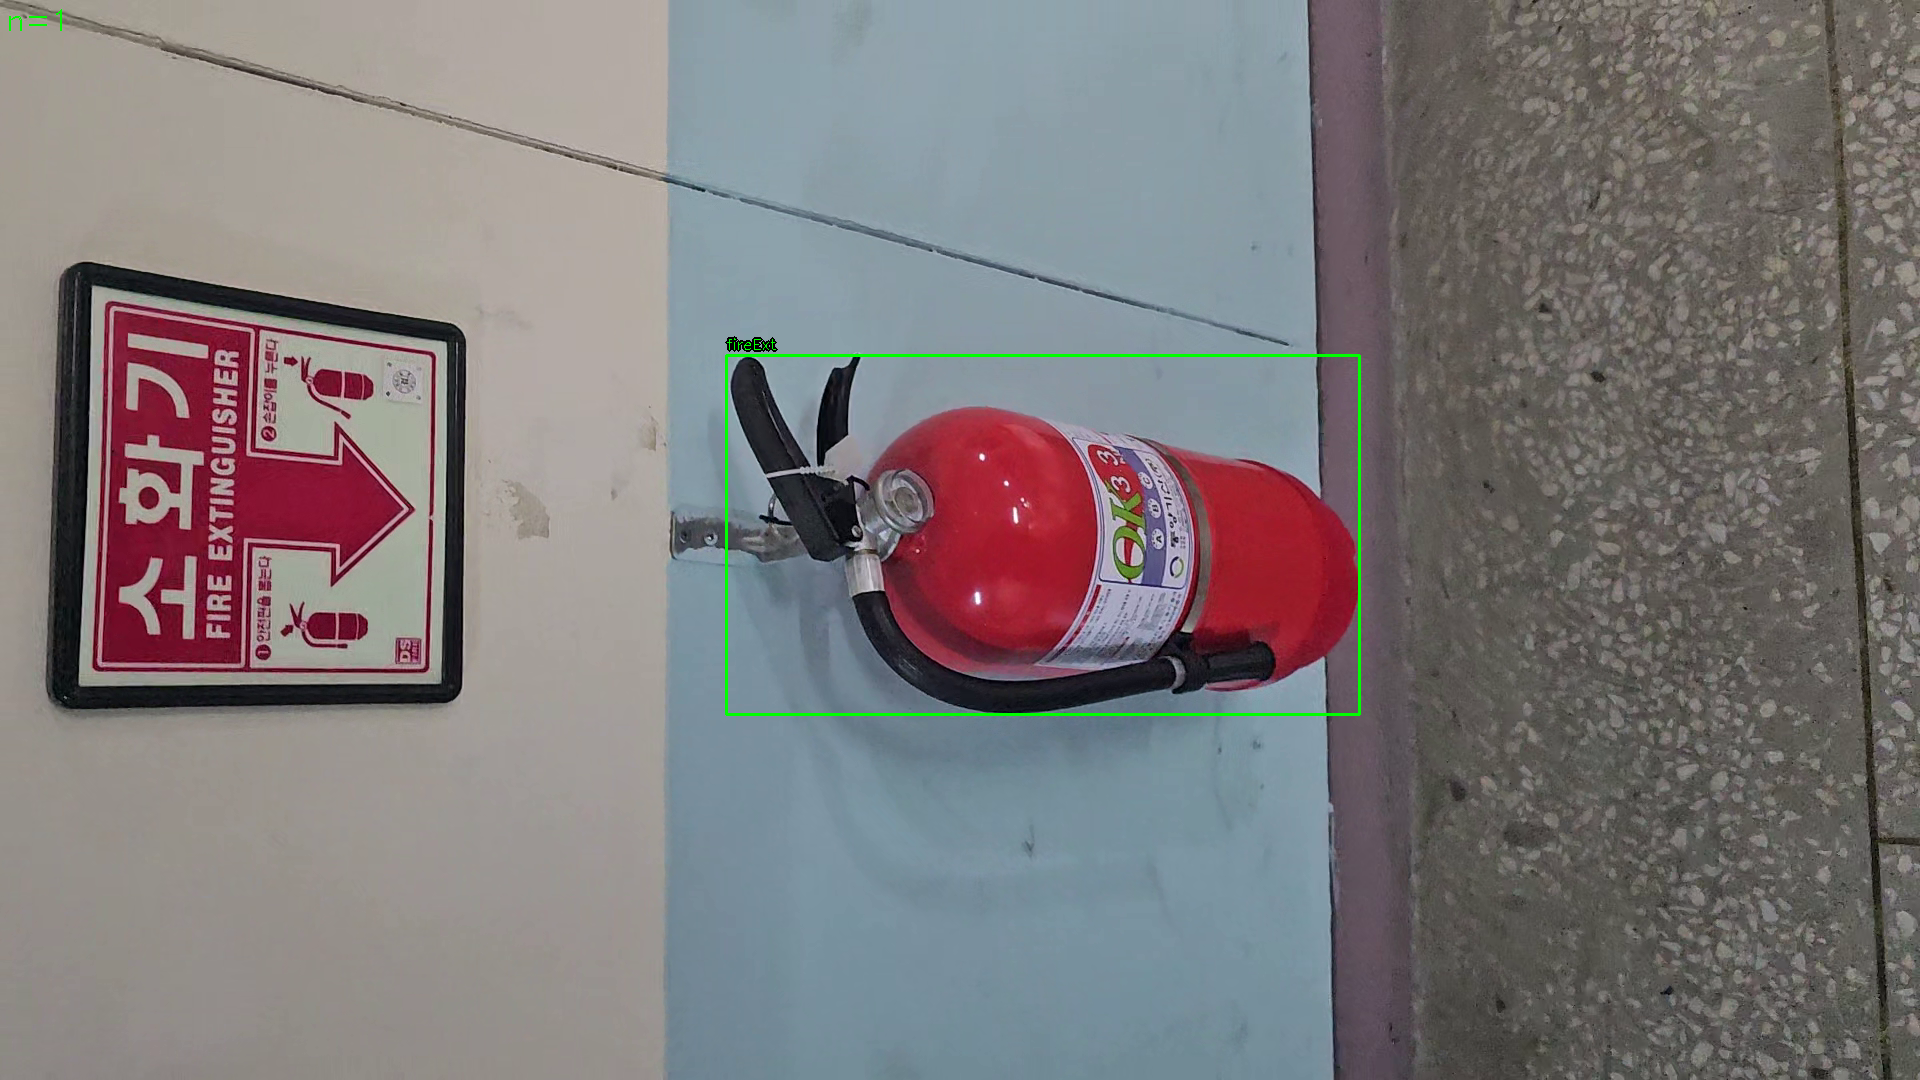lane: (727, 355, 1360, 715)
